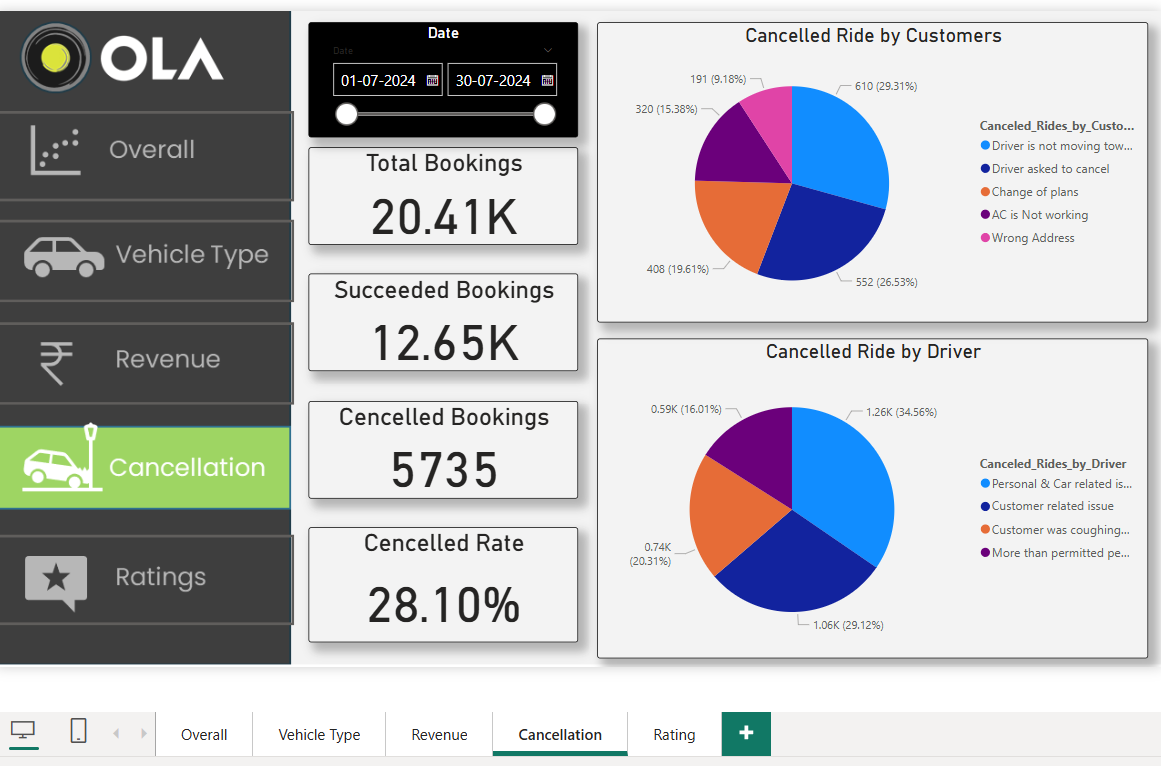

The page's visual inventory and layout, read from the dashboard file:
{"tool":"powerbi","page":{"name":"Cancellation","canvas":[1280,720],"ordinal":3},"visuals":[{"type":"actionButton","box":[0,229.6,327.4,90.7],"z":0},{"type":"actionButton","box":[0,341.6,327.4,90.7],"z":1000},{"type":"actionButton","box":[0,109.1,327.4,99.2],"z":2000},{"type":"actionButton","box":[0,575.4,327.4,99.2],"z":3000},{"type":"pieChart","title":"Cancelled Ride by Customers","fields":{"Category":["Booking.Canceled_Rides_by_Customer"],"Y":["CountNonNull(Booking.Canceled_Rides_by_Driver)"]},"box":[660,12.3,605.1,329.3],"z":4000},{"type":"pieChart","title":"Cancelled Ride by Driver","fields":{"Category":["Booking.Canceled_Rides_by_Driver"],"Y":["CountNonNull(Booking.Canceled_Rides_by_Driver)"]},"box":[660,359.5,605.1,351.3],"z":5000},{"type":"slicer","title":"Date","fields":{"Values":["Booking.Date"]},"box":[343.1,12.3,296.4,126.2],"z":6000},{"type":"card","title":" Total  Bookings","fields":{"Values":["CountNonNull(Booking.Booking_ID)"]},"box":[343.1,149.6,296.4,107],"z":7000},{"type":"card","title":" Succeeded Bookings","fields":{"Values":["CountNonNull(Booking.Booking_ID)"]},"box":[343.1,288.2,296.4,107],"z":8000},{"type":"card","title":" Cencelled Bookings","fields":{"Values":["Booking.CanceledBookings"]},"box":[343.1,428.1,296.4,107],"z":9000},{"type":"card","title":" Cencelled Rate","fields":{"Values":["Booking.Cenceledpercentage"]},"box":[343.1,566.7,296.4,126.2],"z":10000}]}

Visuals, with their boxes on the page's 1280x720 design canvas (x1, y1, x2, y2). These are canvas units, not pixel positions in the 1161x766 screenshot, which may show the page scaled, cropped or inside an application window:
actionButton: 0,230,327,320
actionButton: 0,342,327,432
actionButton: 0,109,327,208
actionButton: 0,575,327,675
"Cancelled Ride by Customers" pieChart: 660,12,1265,342
"Cancelled Ride by Driver" pieChart: 660,360,1265,711
"Date" slicer: 343,12,640,138
" Total  Bookings" card: 343,150,640,257
" Succeeded Bookings" card: 343,288,640,395
" Cencelled Bookings" card: 343,428,640,535
" Cencelled Rate" card: 343,567,640,693
